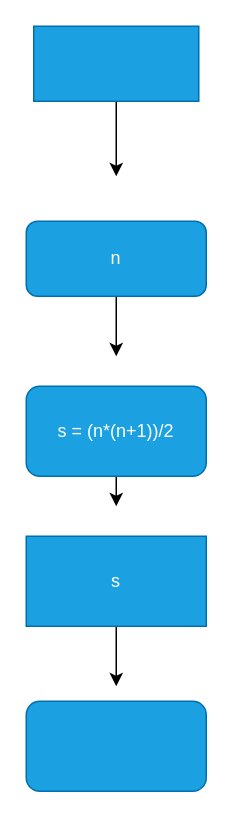
Some shapes in this 233 by 818 pixel diagram are drawn without their labels. The shapes that lost their labels are listed below. From the top down, each one's centre as x and y in pixels, then its label:
point (115, 63): inicio
point (115, 745): fin
